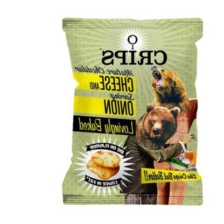snack: (54, 10, 210, 211)
